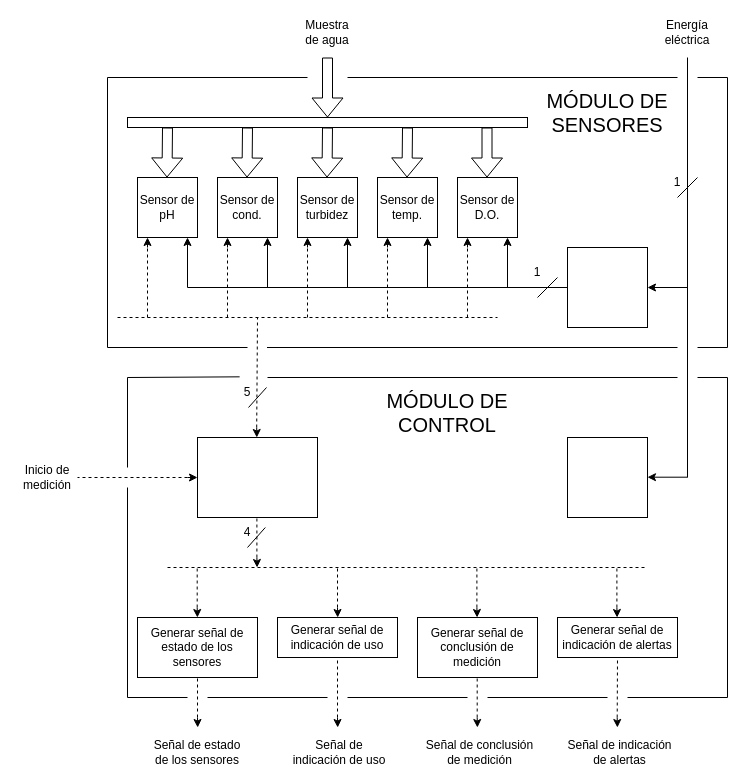
The diagram is 746 pixels wide and 784 high, and some of its shapes have lost their labels. The centre of each missing label's shape, as x and y in pixels:
Acondicionar energía para control: (607,477)
Acondicionar energía para sensores: (607,287)
Comparar valores con los rangos establecidos por la ECA: (257,477)
